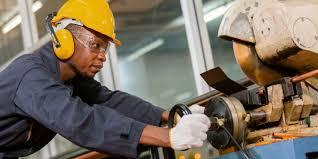Hard_hat: (48, 1, 133, 47)
Humans: (1, 1, 213, 159)
Visor: (74, 36, 114, 59)
